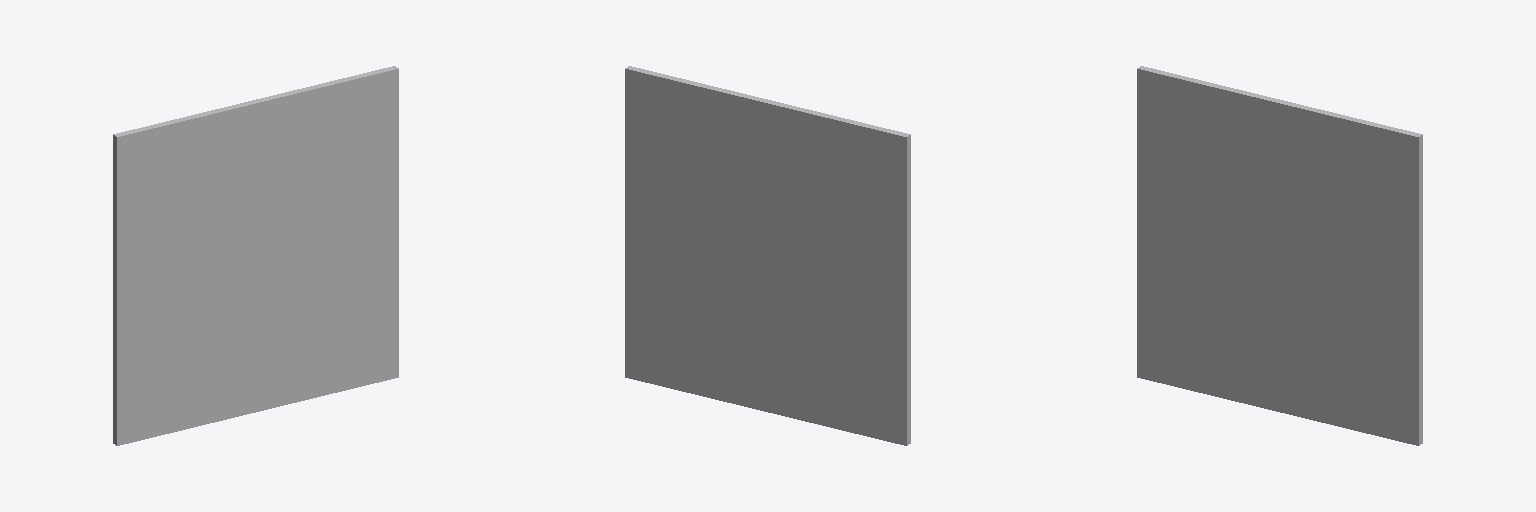
The model's file is stone texture.obj.
3 renders of one model, left to right at view 1: azimuth 30°, elevation 25°; view 2: azimuth 150°, elevation 25°; view 3: azimuth 330°, elevation 25°, orthographic.
Parts seen in each view (by area): view 1: stone texture; view 2: stone texture; view 3: stone texture.
Part boxes in pixels (x1,y1,x2,y2): stone texture: (113, 66, 398, 445); stone texture: (625, 66, 910, 445); stone texture: (1137, 66, 1422, 445).
Size of the model in its own units: 41 by 43 by 1.